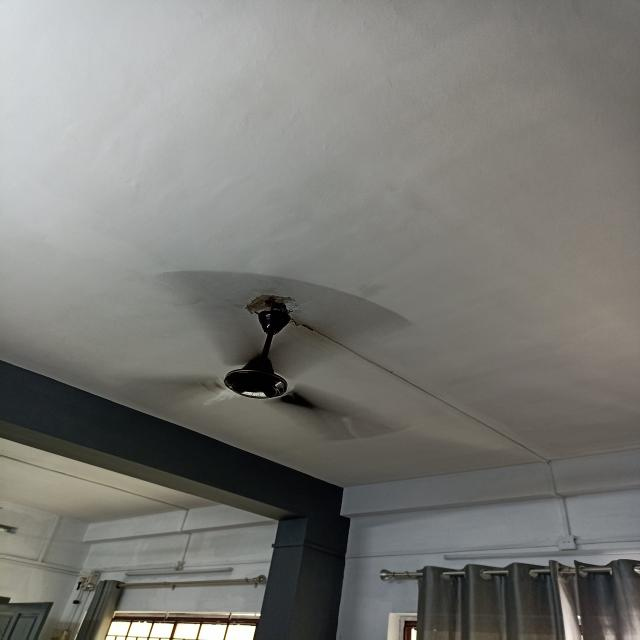fan: (112, 267, 408, 450)
